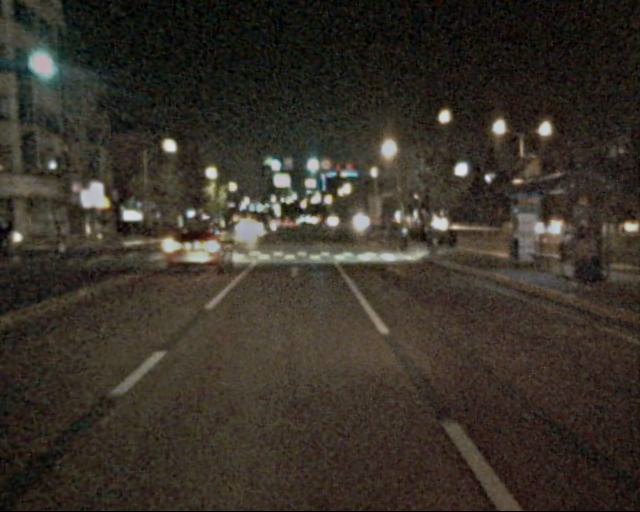person: (583, 219, 611, 289), (574, 223, 598, 287)
